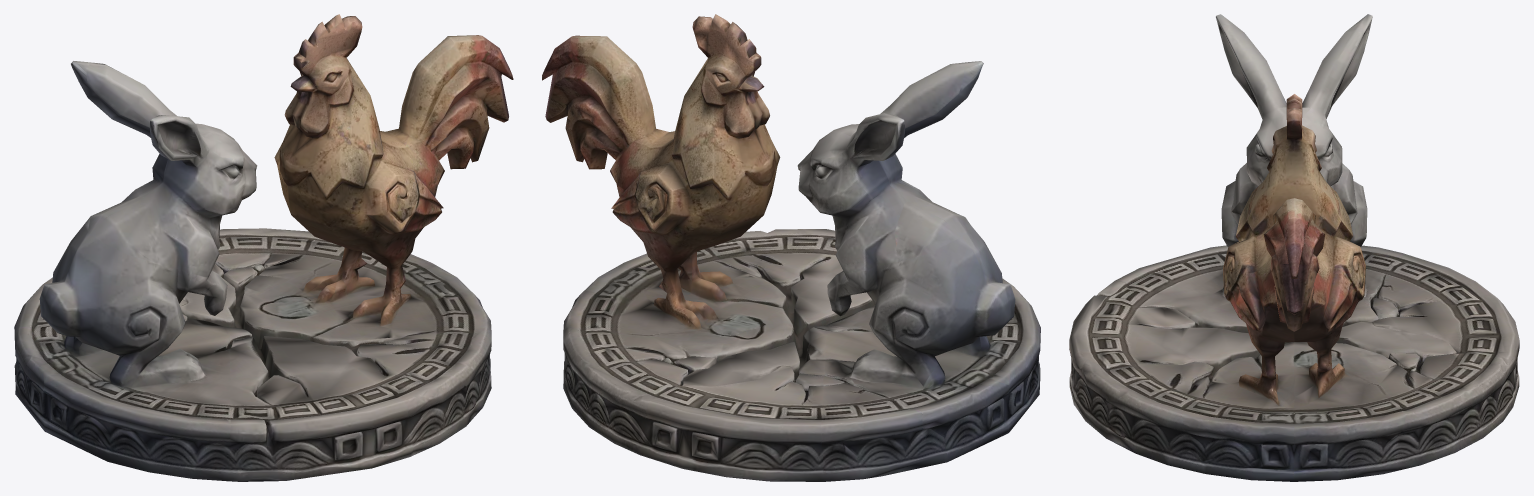
The model's file is chong_mao_you.glb.
3 views of the same model, side by side, from view 1: azimuth 30°, elevation 25°; view 2: azimuth 150°, elevation 25°; view 3: azimuth 270°, elevation 25° (orthographic). The views are drawn at different scales.
Parts seen in each view (by area): view 1: tripo_node_4ce206c0-5bd7-485e-ad31-21719241d066; view 2: tripo_node_4ce206c0-5bd7-485e-ad31-21719241d066; view 3: tripo_node_4ce206c0-5bd7-485e-ad31-21719241d066.
Part boxes in pixels (left/top/right/bottom): tripo_node_4ce206c0-5bd7-485e-ad31-21719241d066: left=14, top=14, right=513, bottom=481; tripo_node_4ce206c0-5bd7-485e-ad31-21719241d066: left=542, top=14, right=1040, bottom=481; tripo_node_4ce206c0-5bd7-485e-ad31-21719241d066: left=1069, top=14, right=1519, bottom=481.
Bounding box in the file's own units: 0.9983 × 0.7067 × 0.8797.
1 material, 1 textured.
